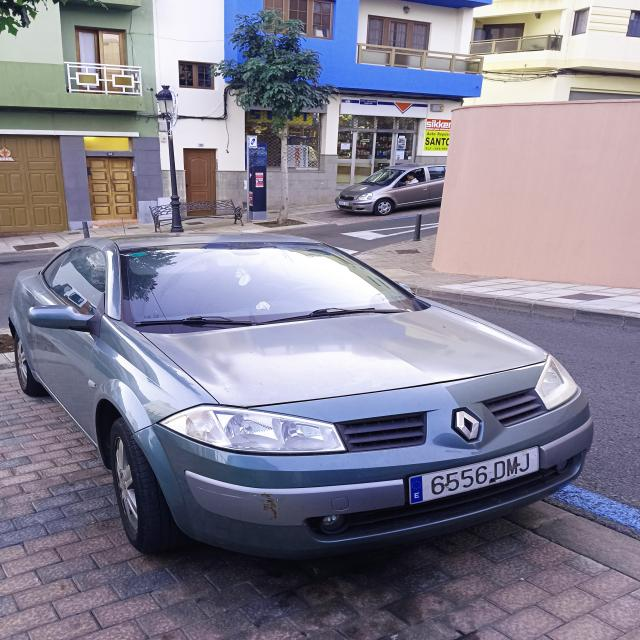football: (407, 445, 539, 506)
